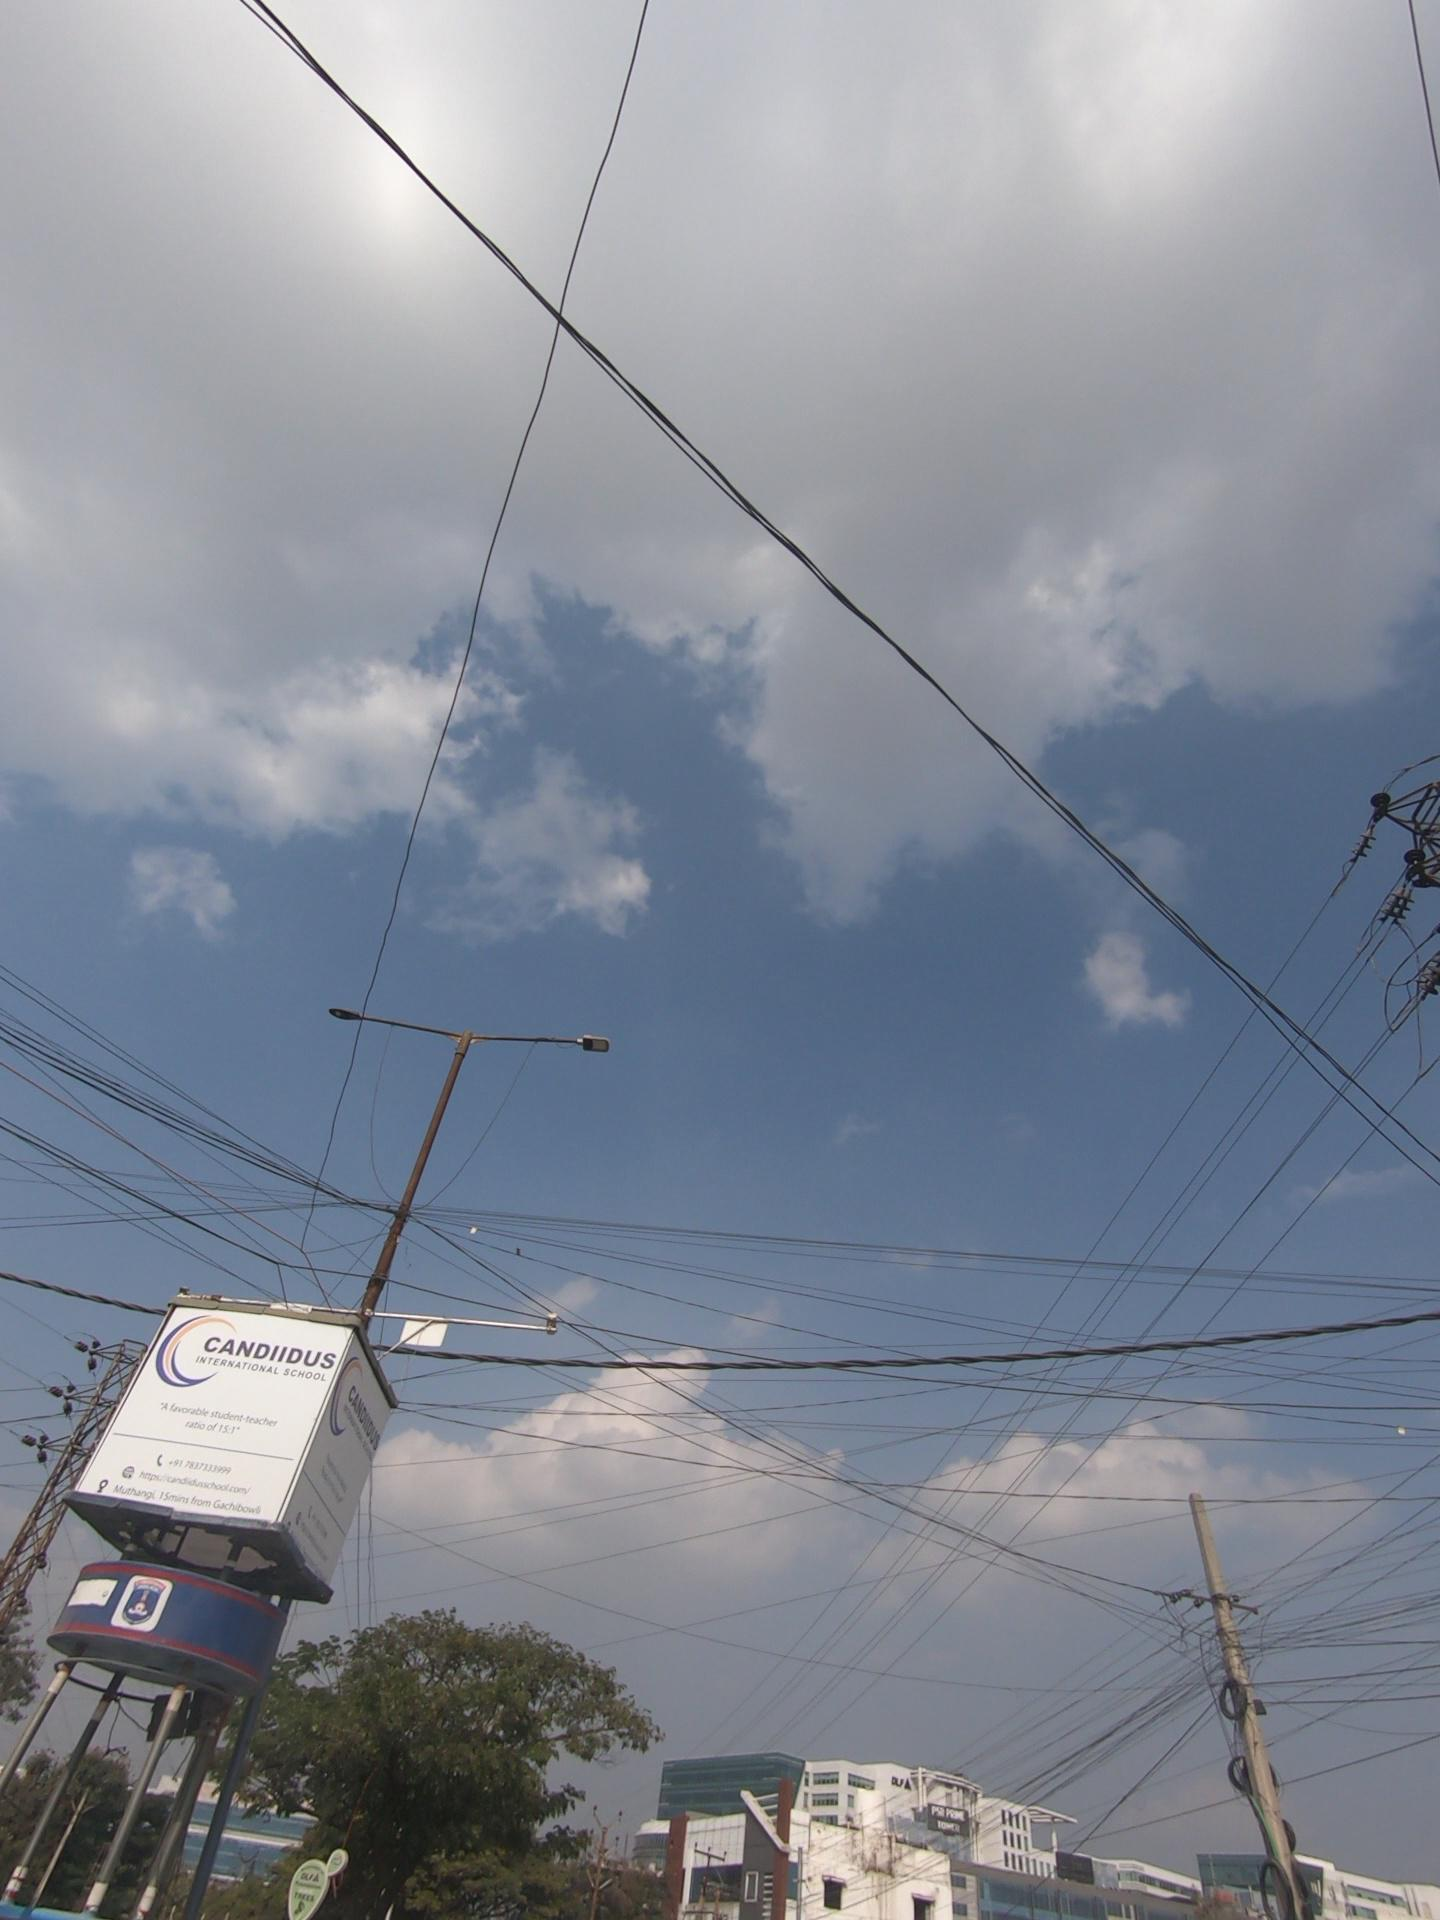off: (315, 946, 652, 1099)
